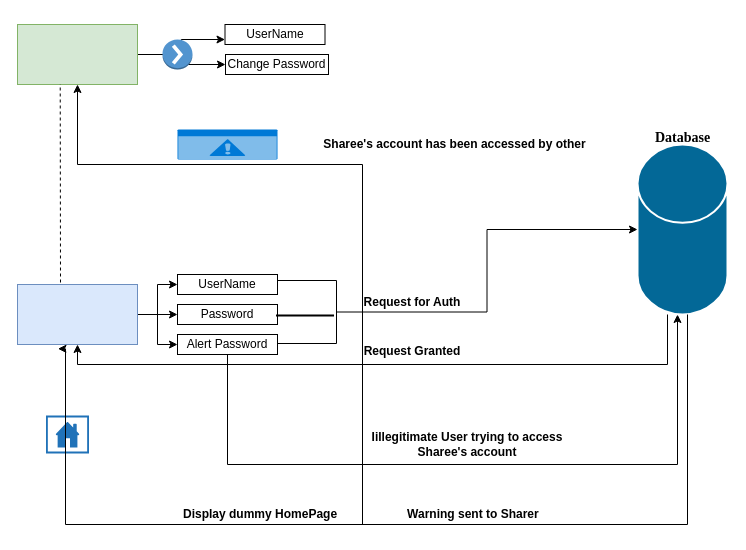
Image size: 746x550. Some labels were removed from this diagram. The centre of each missing label's shape, as x and y in pixels:
"Sharee" goes at pixel 77 314.
"Sharer" goes at pixel 77 54.
"Warning" goes at pixel 227 144.
